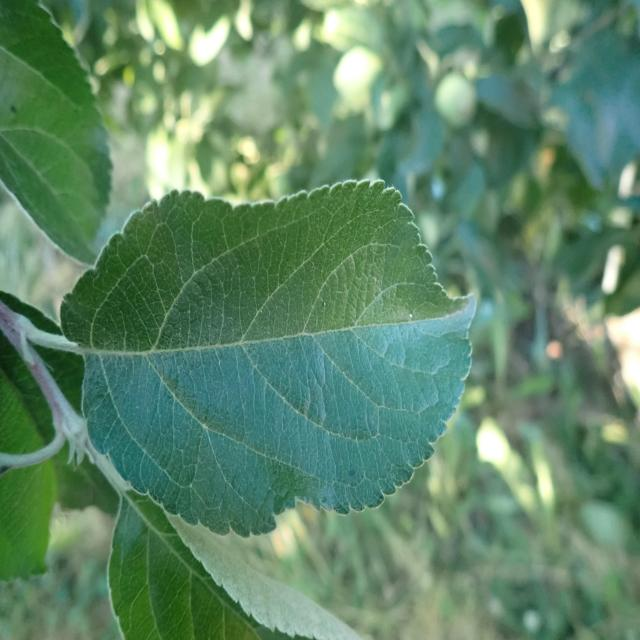healthy: (59, 179, 478, 538), (107, 488, 362, 640), (0, 0, 114, 268), (0, 293, 60, 584)
